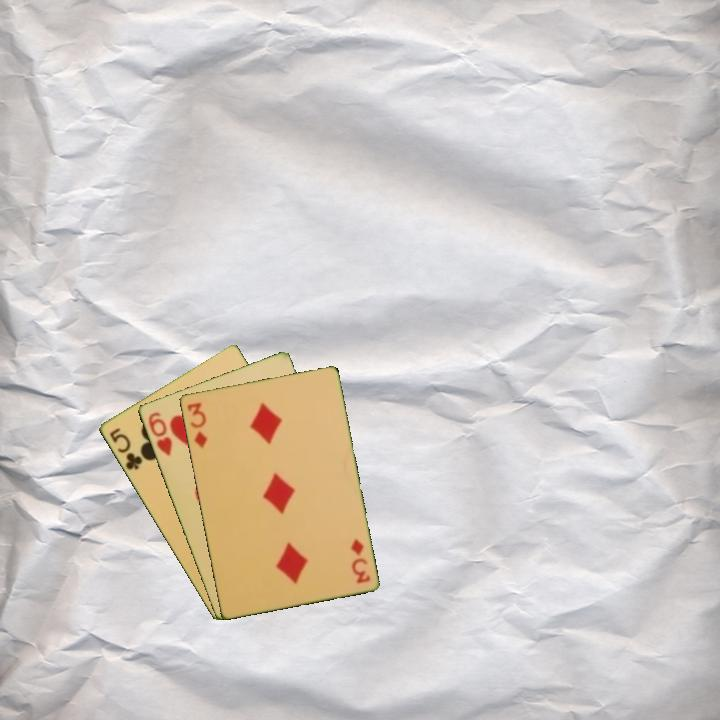3d: (183, 399, 210, 451), (346, 535, 373, 586)
5c: (106, 424, 145, 473)
6h: (144, 408, 175, 459)
